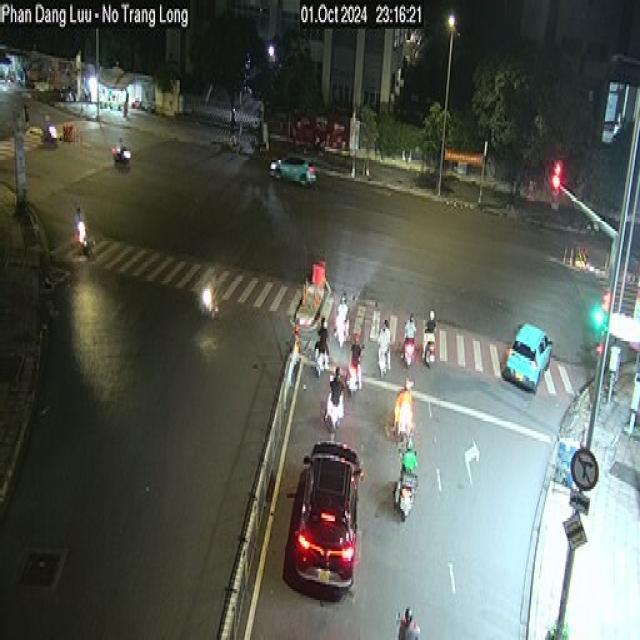car: (281, 440, 364, 598), (502, 320, 552, 393), (269, 153, 316, 187)
person: (393, 376, 415, 444), (324, 365, 345, 431), (376, 318, 392, 376), (400, 311, 416, 367), (422, 309, 436, 362)
